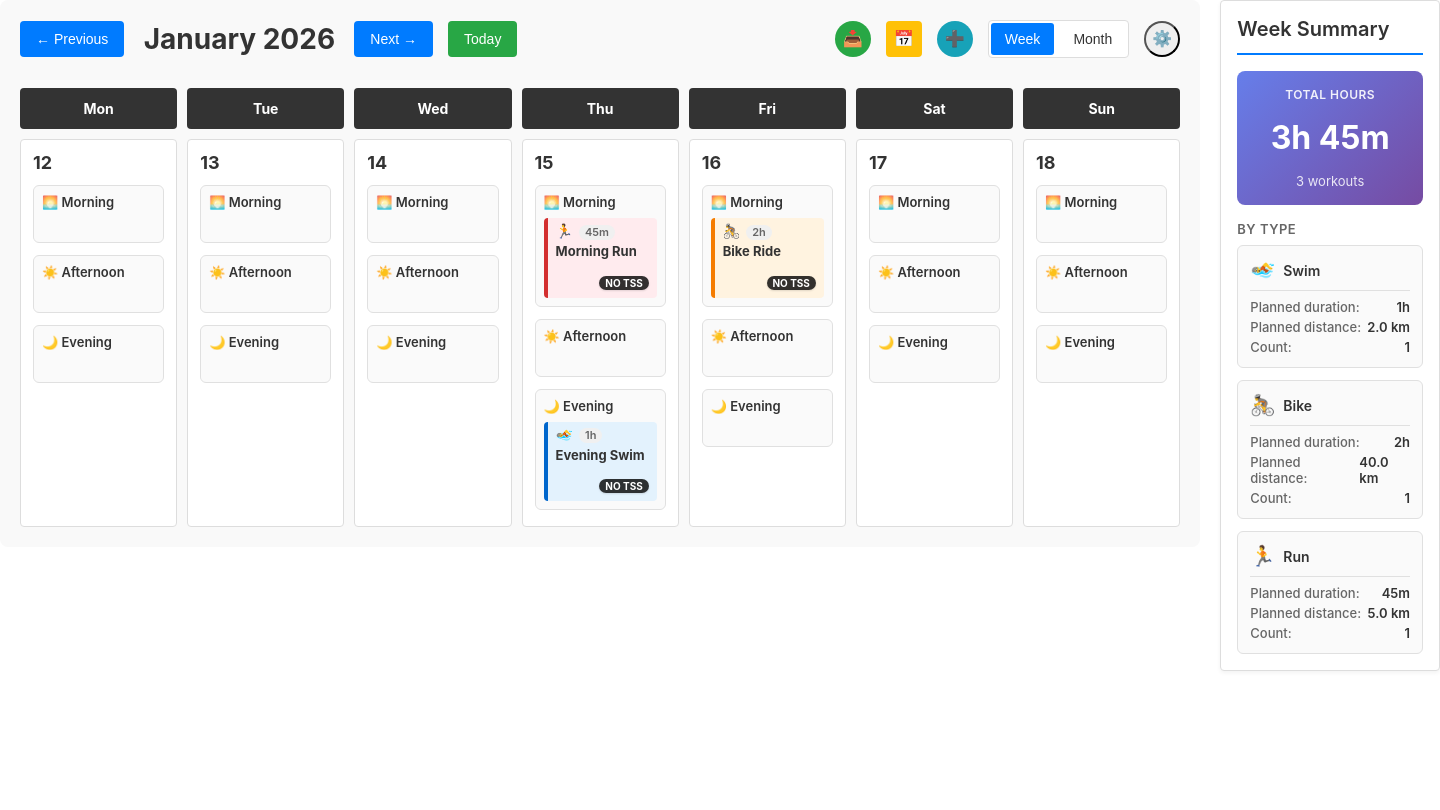
it: Calendar Component › Workout Modal Interaction › should open modal when workout card is clicked
The image size is (1440, 810).
# Find and click a workout badge
Click the button "Morning Run": (602, 252) [556,244,649,260]
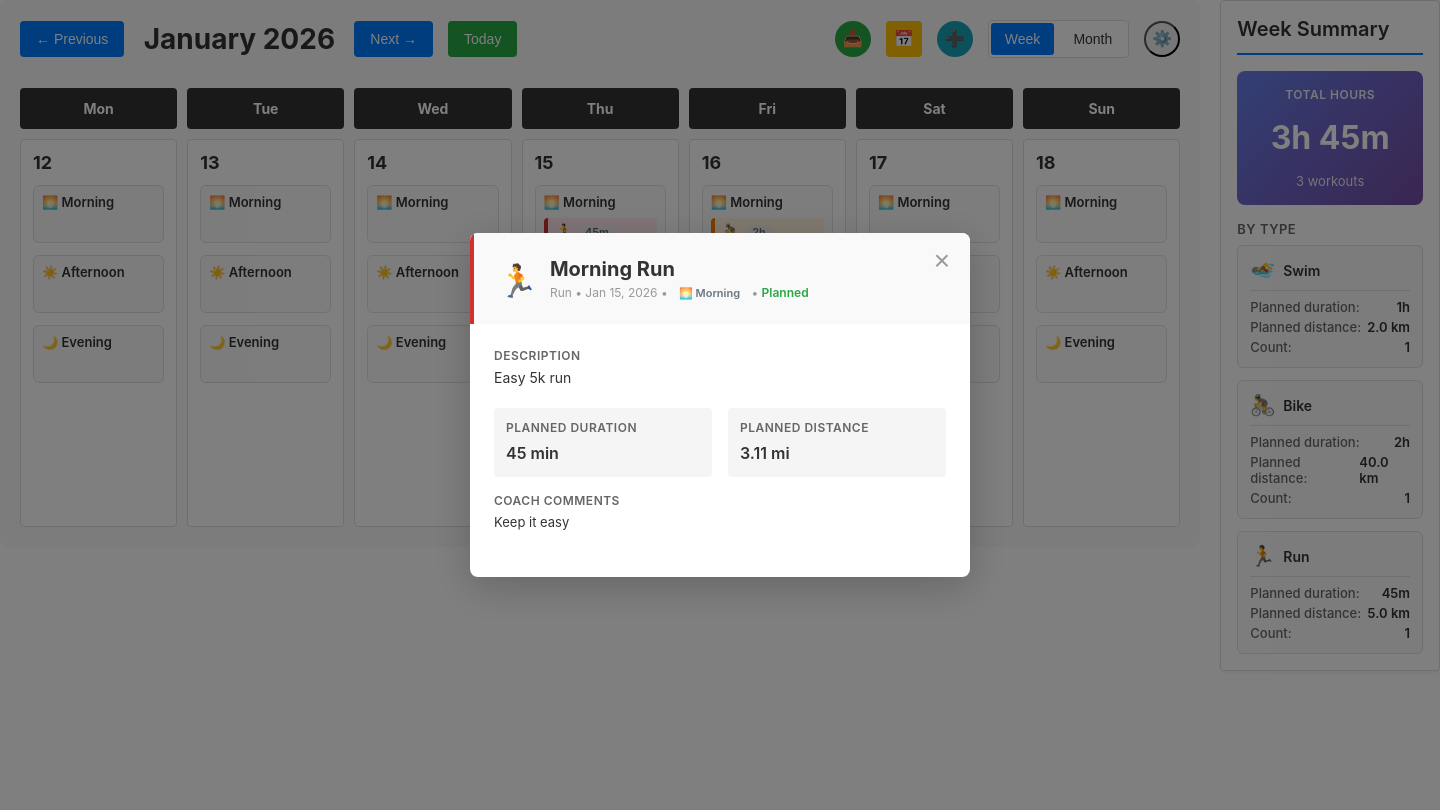
Expected: the element with class "modal-content" is shown, [470,233,970,577]
